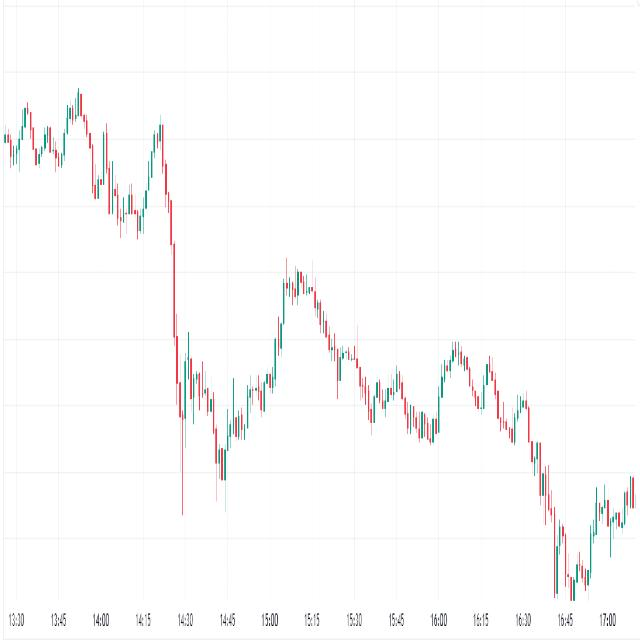Rounding-Bottom: (171, 246, 287, 500)
